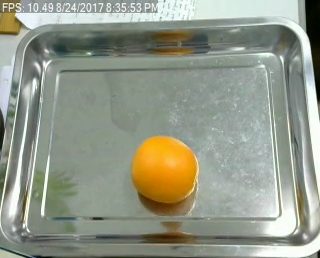Orange: (131, 136, 197, 203)
